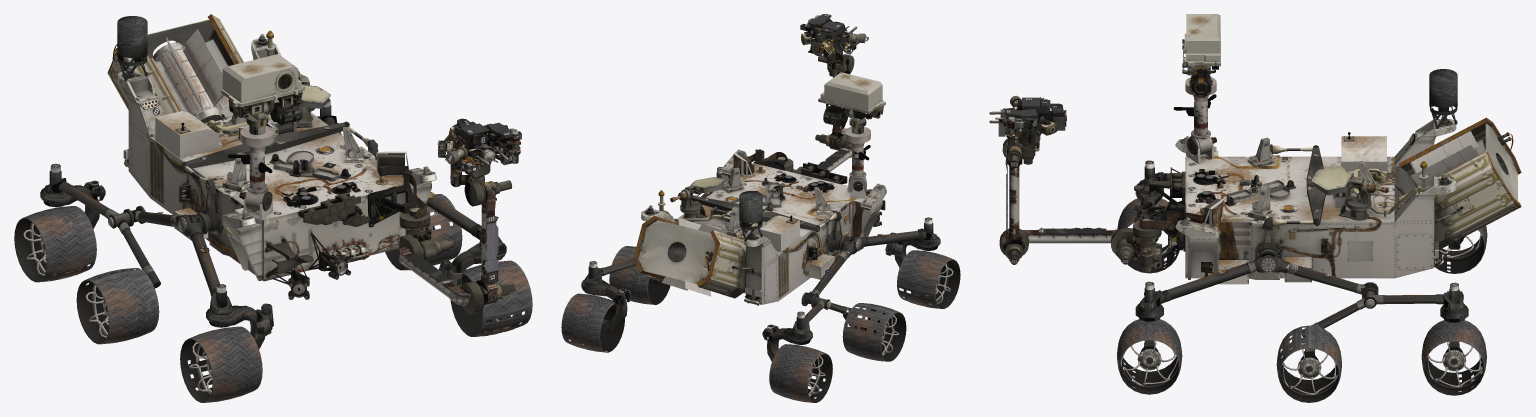
The model's file is rover.glb.
3 views of the same model, side by side, from view 1: azimuth 30°, elevation 25°; view 2: azimuth 150°, elevation 25°; view 3: azimuth 270°, elevation 25° (orthographic). The views are drawn at different scales.
Visible parts, largest first — view 1: MSL; view 2: MSL; view 3: MSL.
Boxes of the visible parts, left/top/right/bottom form: MSL: left=14, top=14, right=532, bottom=402; MSL: left=561, top=14, right=960, bottom=402; MSL: left=989, top=14, right=1521, bottom=402.
Bounding box in the file's own units: 2.78 × 2.22 × 3.94.
Materials: 9 (8 with a texture image).
